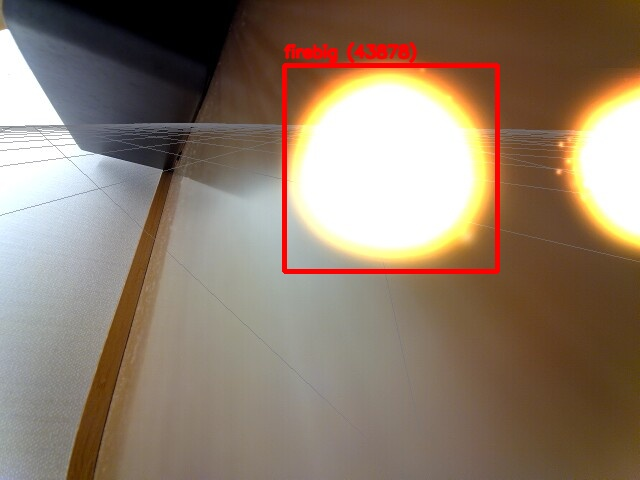firebig: (284, 65, 497, 271)
